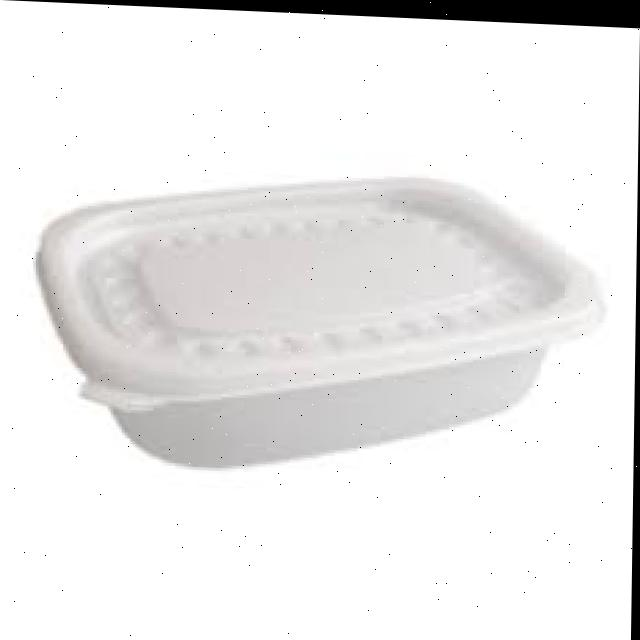disposable: (31, 139, 628, 488)
